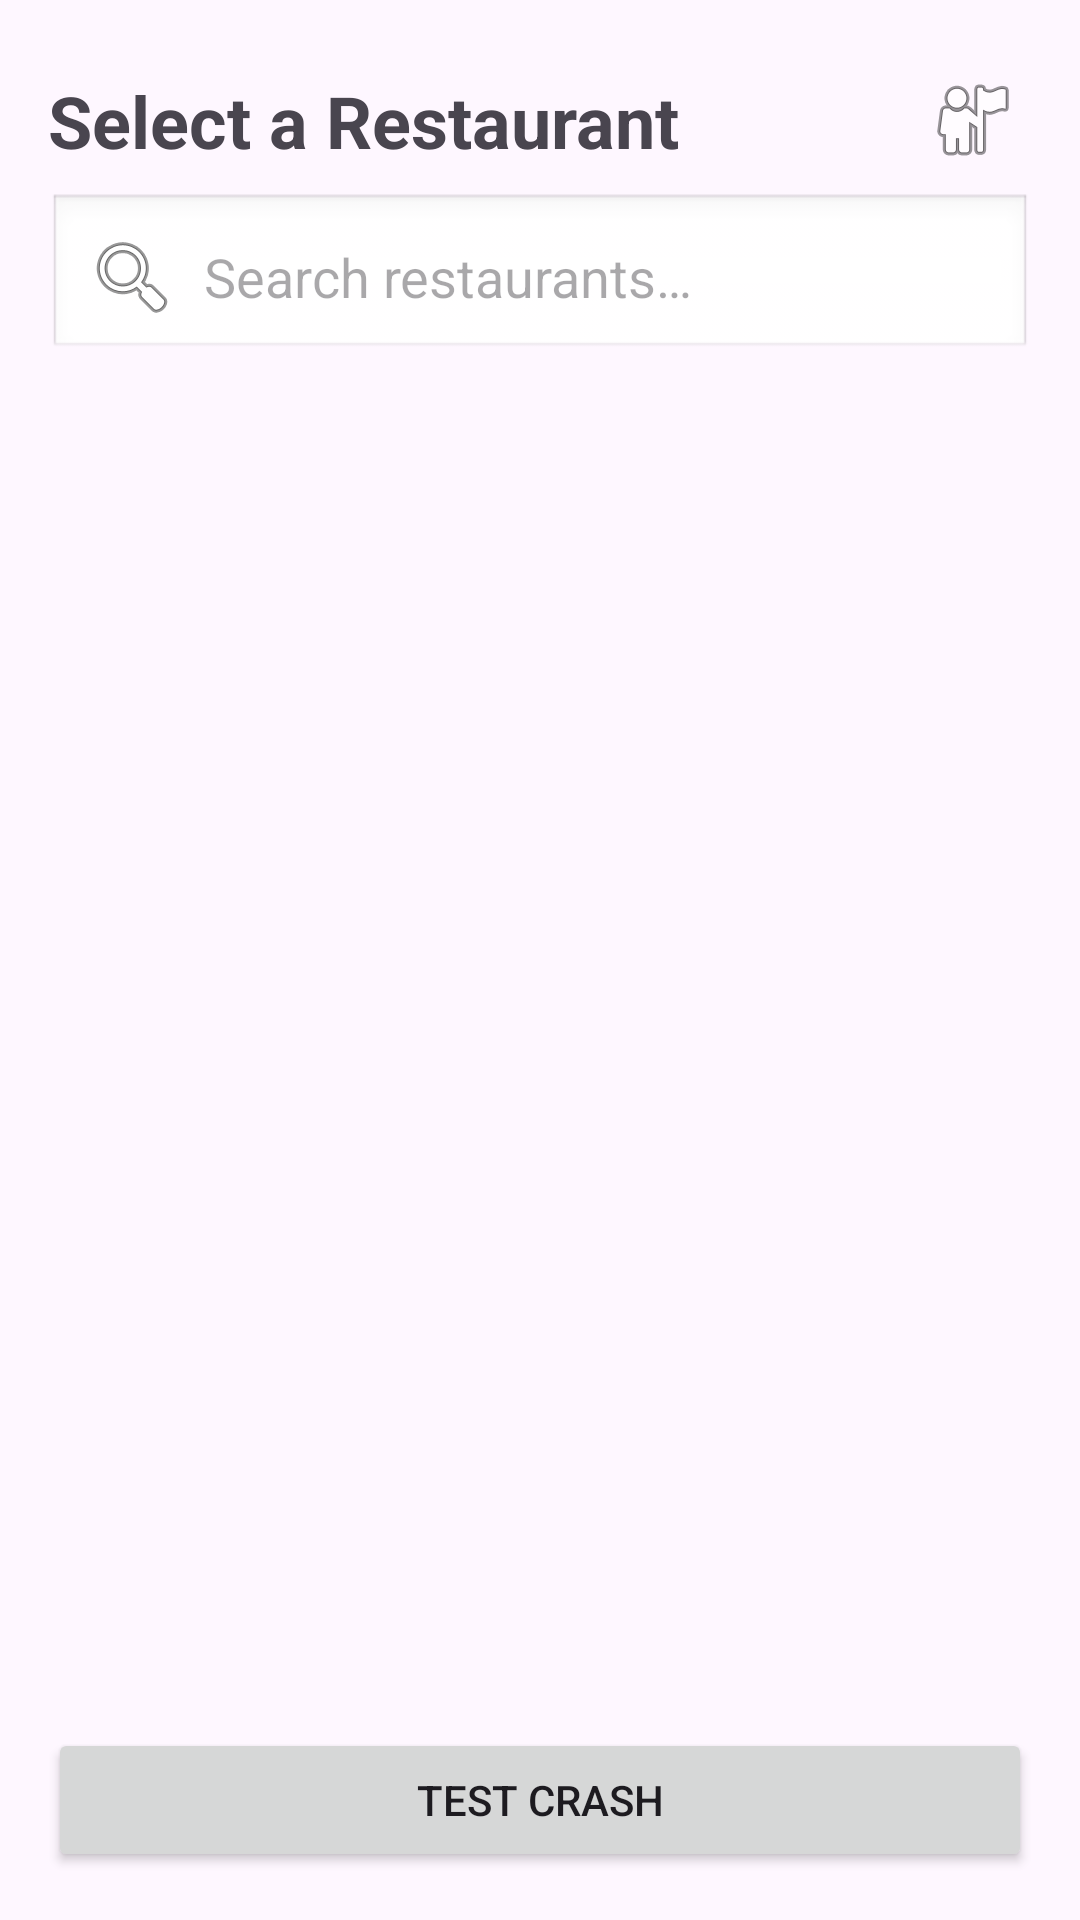

Where icons sit on this 1080px x 1920px app screen, as (x1, y1, x2, y2):
Profile: (937, 84, 1009, 156)
